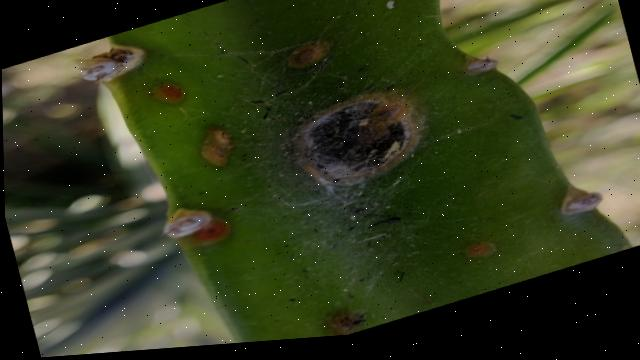stemcanker: (281, 38, 335, 73), (198, 126, 238, 171), (188, 217, 236, 250), (454, 238, 500, 262), (152, 81, 187, 106)
